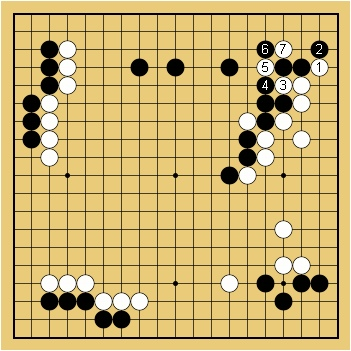black: (22, 94, 40, 112), (22, 112, 40, 130), (22, 130, 40, 148), (40, 292, 58, 310), (40, 40, 58, 58), (40, 58, 58, 76), (40, 76, 58, 94), (58, 292, 76, 310), (76, 292, 94, 310), (94, 310, 112, 328), (112, 310, 130, 328), (130, 58, 148, 76), (166, 58, 184, 76), (220, 166, 238, 184), (220, 58, 238, 76), (238, 130, 256, 148), (238, 148, 256, 166), (256, 274, 274, 292), (256, 40, 274, 58), (256, 76, 274, 94), (256, 94, 274, 112), (256, 112, 274, 130), (274, 292, 292, 310), (274, 58, 292, 76), (274, 94, 292, 112), (292, 274, 310, 292), (292, 58, 310, 76), (310, 274, 328, 292), (310, 42, 328, 60)
white: (40, 274, 58, 292), (40, 94, 58, 112), (40, 112, 58, 130), (40, 130, 58, 148), (40, 147, 58, 165), (57, 274, 75, 292), (60, 43, 78, 61), (58, 58, 76, 76), (58, 76, 76, 94), (76, 274, 94, 292), (94, 292, 112, 310), (112, 292, 130, 310), (129, 292, 147, 310), (220, 274, 238, 292), (238, 166, 256, 184), (238, 112, 256, 130), (256, 58, 274, 76), (256, 130, 274, 148), (256, 147, 274, 165), (274, 220, 292, 238), (274, 256, 292, 274), (274, 40, 292, 58), (274, 76, 292, 94), (274, 112, 292, 130), (291, 256, 309, 274), (291, 76, 309, 94), (292, 93, 310, 111), (292, 130, 310, 148), (309, 58, 327, 76)
